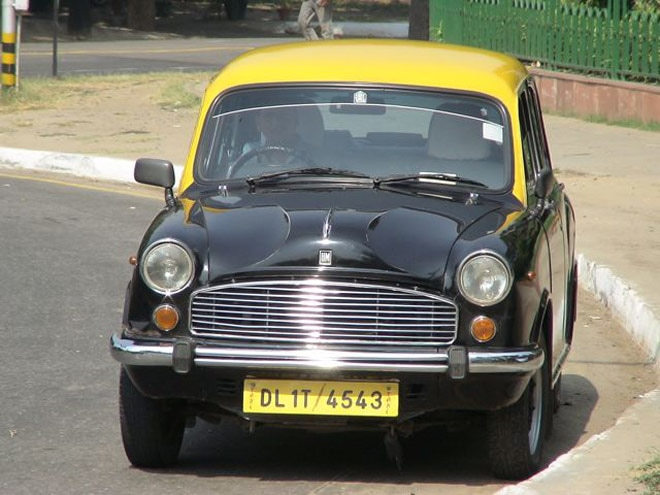number_plate: (241, 376, 401, 423)
